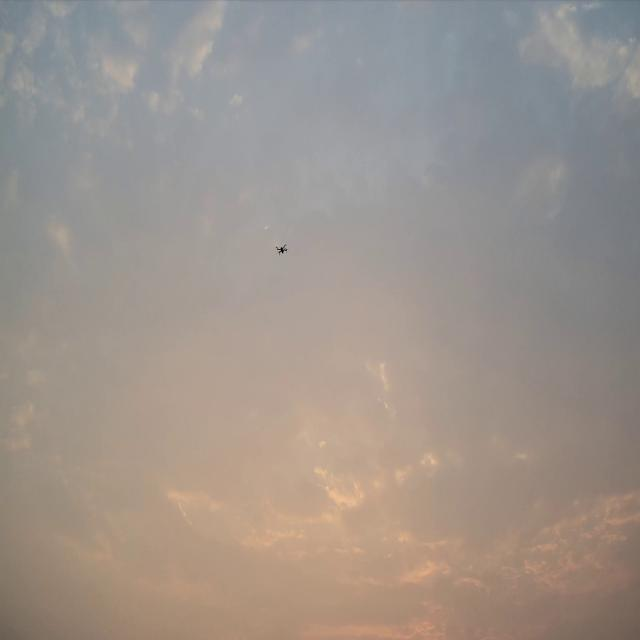drone: (275, 244, 289, 255)
